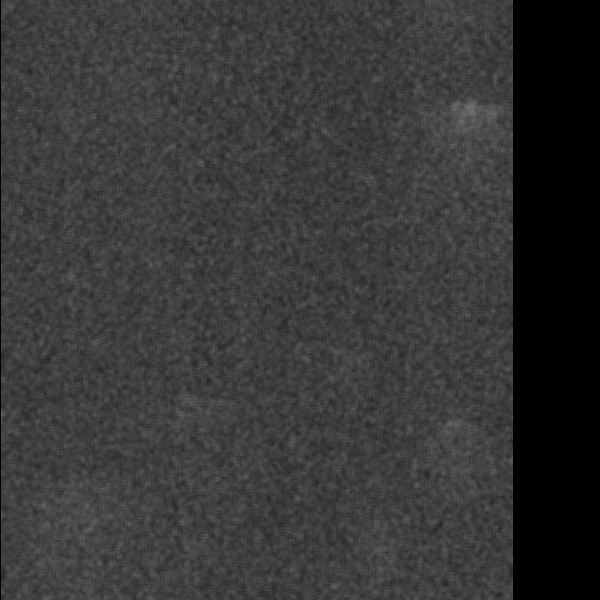spark: (202, 176, 250, 320), (360, 26, 383, 76)
